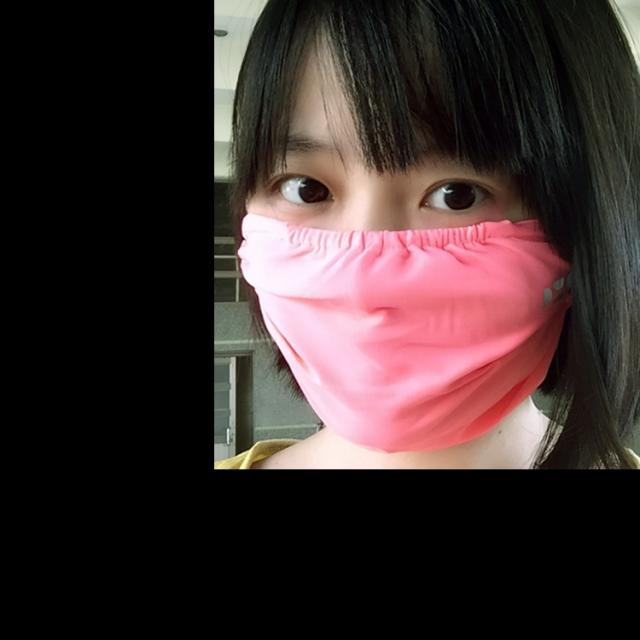mask: (236, 42, 554, 426)
